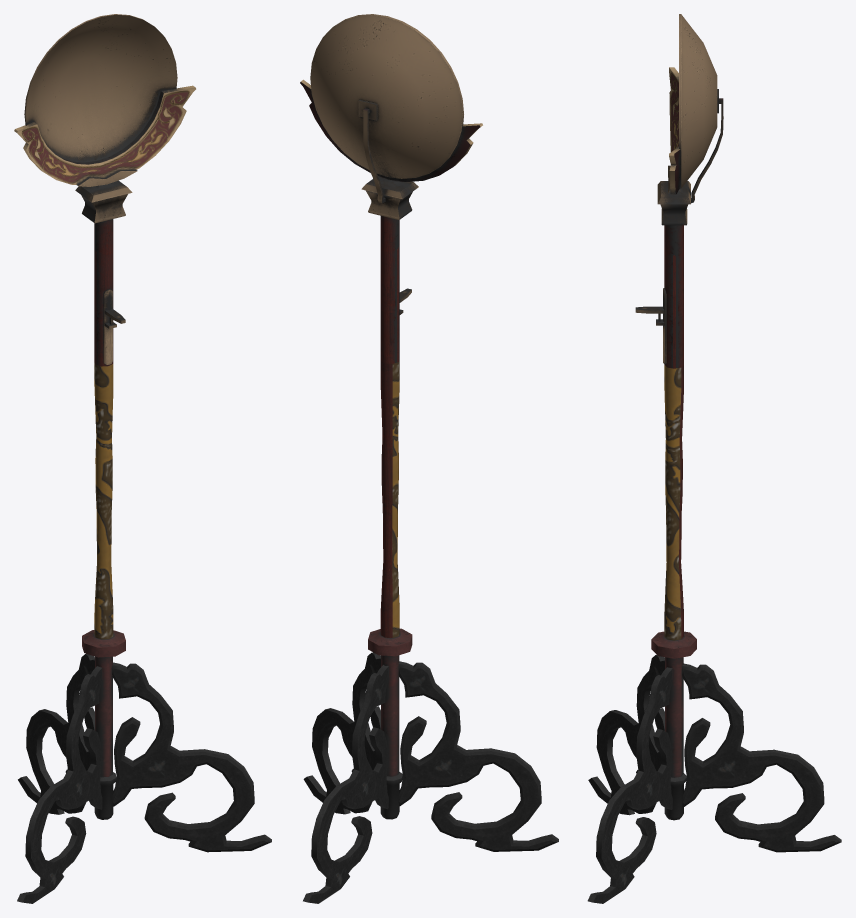
File: Vintage Reflecting Lamp 03.fbx
3 renders of one model, left to right at view 1: azimuth 30°, elevation 25°; view 2: azimuth 150°, elevation 25°; view 3: azimuth 270°, elevation 25°, orthographic.
Parts seen in each view (by area): view 1: Plane_001; view 2: Plane_001; view 3: Plane_001.
Part boxes in pixels (x1,y1,x2,y2): Plane_001: [14, 14, 271, 903]; Plane_001: [300, 14, 558, 903]; Plane_001: [587, 14, 841, 903].
Bounding box in the file's own units: 71.45 × 223 × 61.97.
